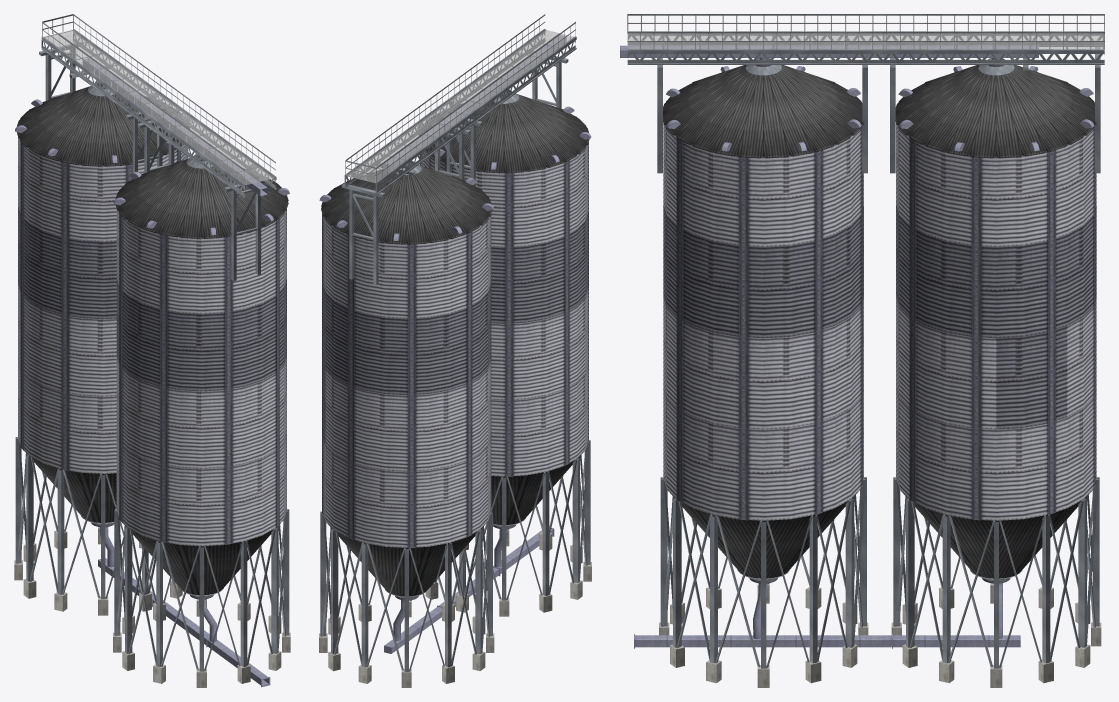
File: plant-building47.glb
3 renders of one model, left to right at view 1: azimuth 30°, elevation 25°; view 2: azimuth 150°, elevation 25°; view 3: azimuth 270°, elevation 25°, orthographic. The views are drawn at different scales.
Parts seen in each view (by area): view 1: Object8935509; view 2: Object8935509; view 3: Object8935509.
Boxes of the visible parts, x1,y1,x2,y2 form: Object8935509: (14,14,290,687); Object8935509: (319,14,591,687); Object8935509: (620,14,1104,687).
Bounding box in the file's own units: 10.58 × 34.62 × 24.49.
Materials: 1 (1 with a texture image).
